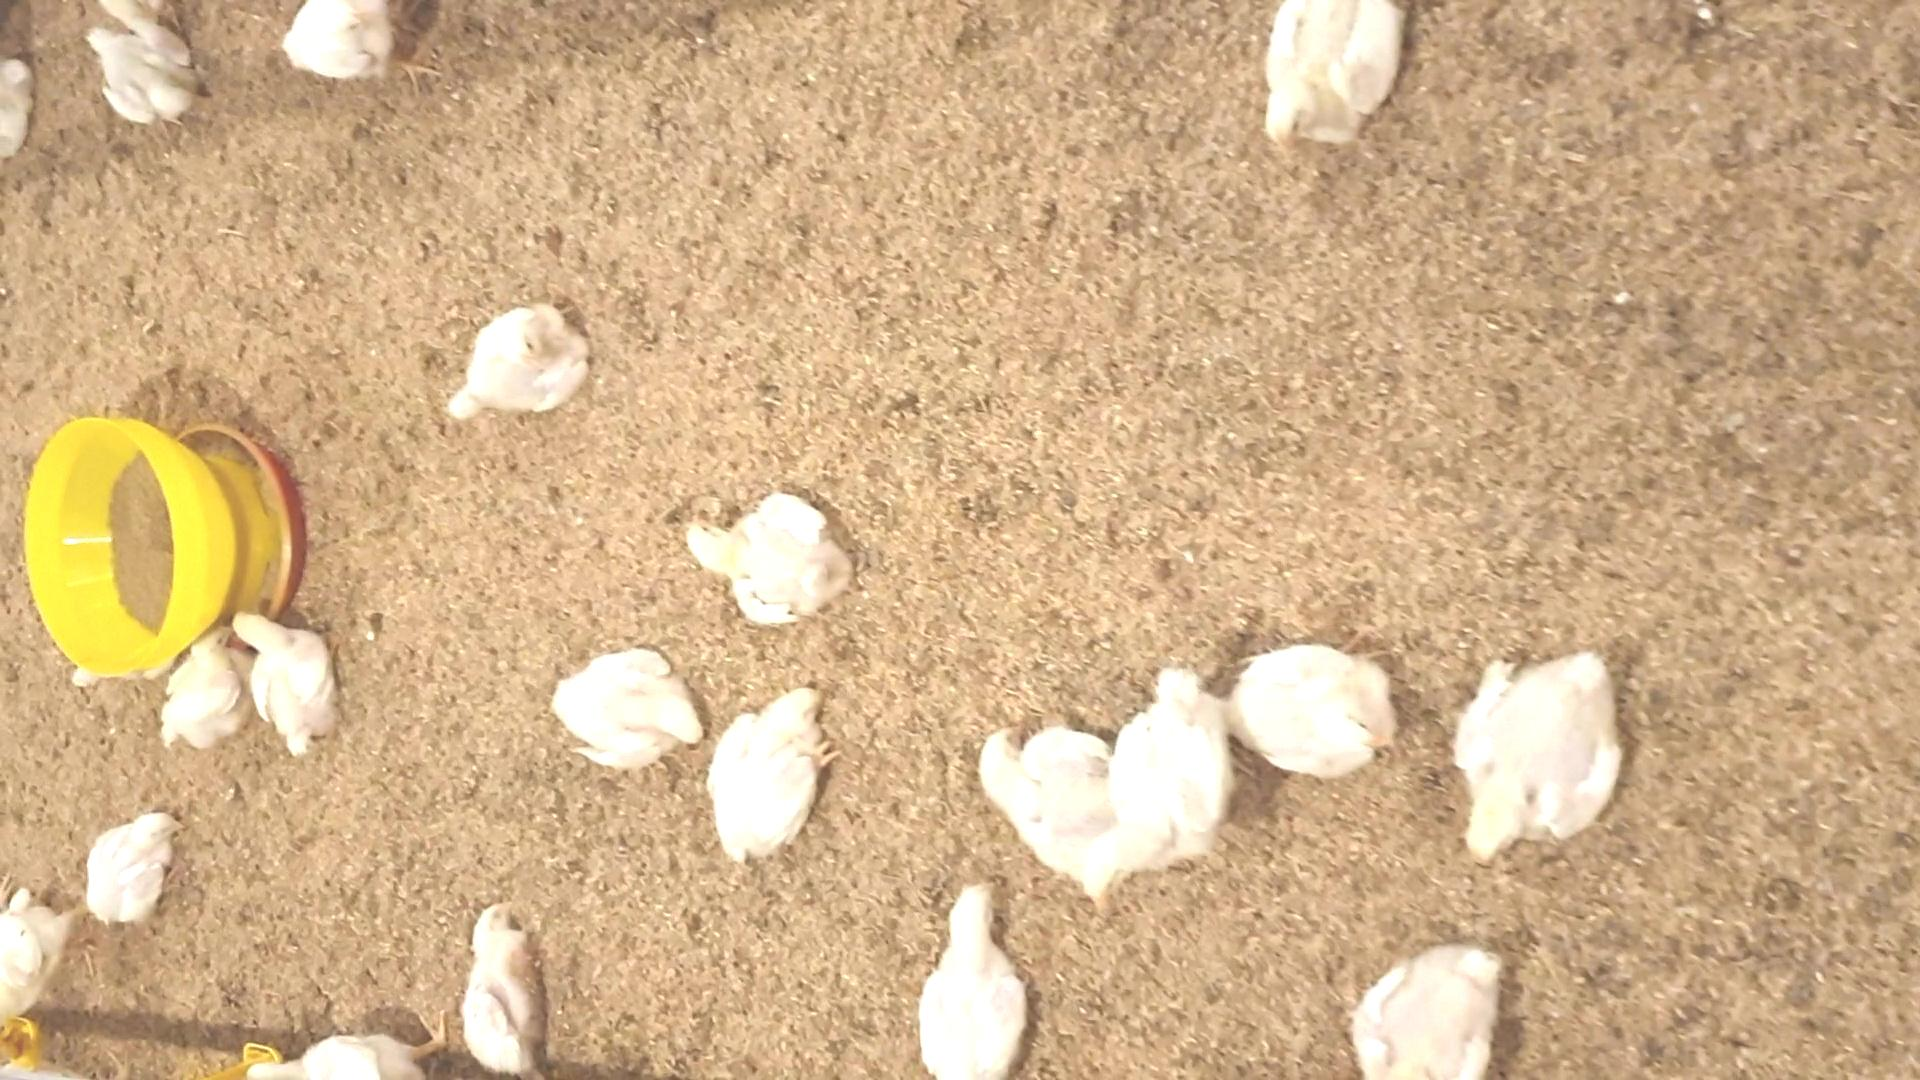Pollos: (1079, 676, 1233, 919), (1460, 649, 1633, 860), (915, 876, 1035, 1080), (711, 676, 839, 866), (1261, 1, 1414, 156), (675, 498, 856, 620), (1240, 645, 1400, 771), (551, 647, 707, 767), (450, 298, 593, 426), (233, 609, 342, 750), (982, 717, 1081, 847), (80, 807, 181, 923), (469, 898, 535, 1073), (156, 628, 243, 752)
